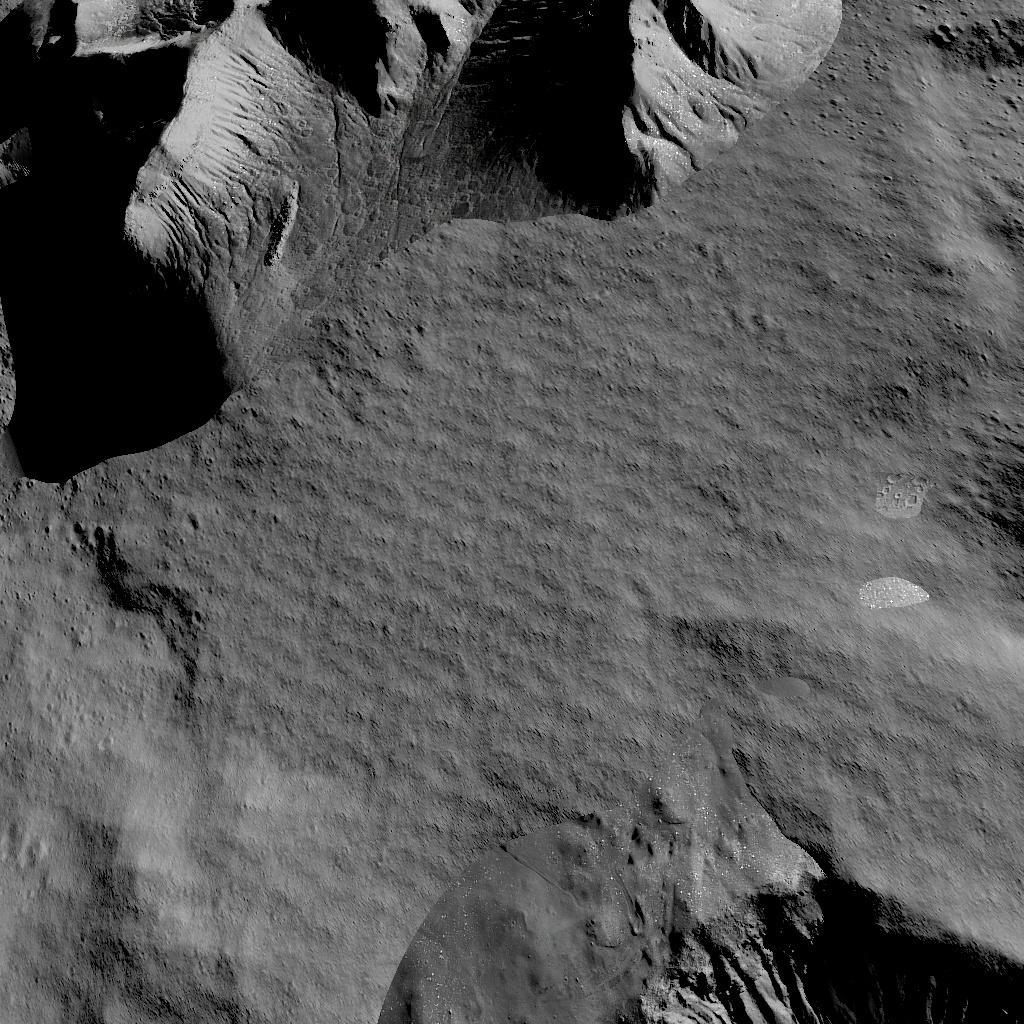Boulders: (18, 0, 858, 439)
Crater: (453, 798, 1024, 1024), (965, 420, 1024, 582), (917, 0, 1024, 72)
Plan surface: (4, 491, 408, 1024), (444, 456, 924, 768), (897, 96, 1024, 398)
